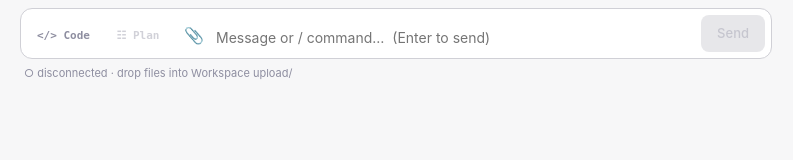
Scenario: slash command menu › selects a command without sending it immediately
Step 1. Type "/check" into the text box with test id "chat-input-field" → (456, 37), box x1=216 y1=23 x2=695 y2=52
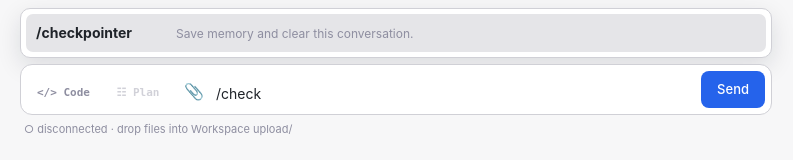
Step 2. Press the mouse on the option with test id "slash-command-checkpointer" → (396, 33), box x1=26 y1=14 x2=766 y2=52
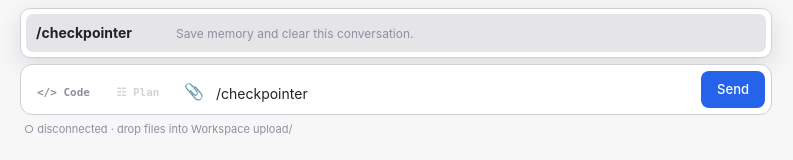
Result: the text box with test id "chat-input-field" holds "/checkpointer" at x1=216 y1=79 x2=695 y2=108
